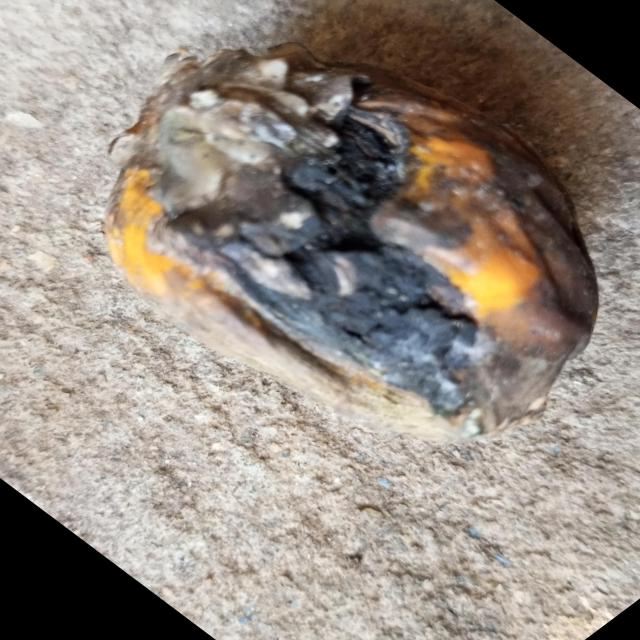damaged: (101, 8, 601, 449)
